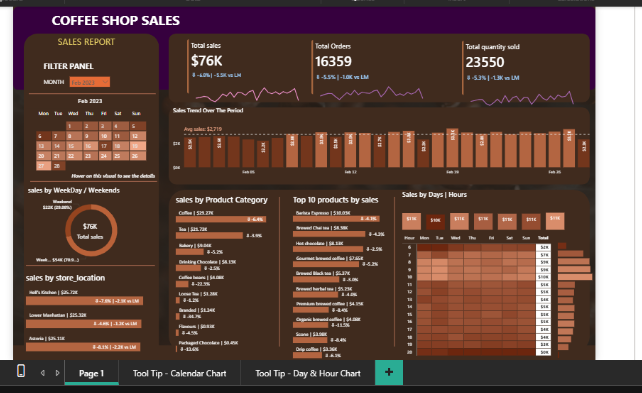

The page's visual inventory and layout, read from the dashboard file:
{"tool":"powerbi","page":{"name":"Page 1","canvas":[1400,850],"ordinal":0},"visuals":[{"type":"shape","box":[0,0,1400,200.3],"z":0},{"type":"group","id":"g1","title":"Group 1","box":[400.5,60.6,299.5,165.4],"z":0,"group":"g4"},{"type":"group","id":"g2","title":"Group 1","box":[700,62.5,299.5,165.4],"z":0,"group":"g5"},{"type":"group","id":"g3","title":"Group 1","box":[1061.9,64.3,299.5,165.4],"z":0,"group":"g6"},{"type":"shape","box":[25.7,64.3,325.2,786.4],"z":1000},{"type":"lineChart","fields":{"Y":["Transactions.Total sales"],"Category":["Date Table.Date Hierarchy.Date"]},"box":[424.4,158,275.6,82.7],"z":1000,"group":"g4"},{"type":"lineChart","fields":{"Category":["Date Table.Date Hierarchy.Date"],"Y":["Transactions.Total Orders"]},"box":[723.9,159.9,275.6,82.7],"z":1000,"group":"g5"},{"type":"lineChart","fields":{"Category":["Date Table.Date Hierarchy.Date"],"Y":["Transactions.Total quantity sold"]},"box":[1085.8,161.7,275.6,82.7],"z":1000,"group":"g6"},{"type":"shape","box":[373,64.3,1012.3,165.4],"z":2000},{"type":"textbox","box":[68.3,0,356.7,61.4],"z":3000},{"type":"slicer","fields":{"Values":["Date Table.Month year"]},"box":[129.7,162.1,109.2,42.7],"z":4000},{"type":"group","id":"g4","title":"Group 2","box":[400.5,60.6,299.5,180.1],"z":5000},{"type":"cardVisual","fields":{"Data":["Transactions.Total sales"]},"box":[400.5,60.6,299.5,165.4],"z":5000,"group":"g1"},{"type":"cardVisual","fields":{"Data":["Transactions.Total Orders"]},"box":[700,62.5,299.5,165.4],"z":5000,"group":"g2"},{"type":"cardVisual","fields":{"Data":["Transactions.Total quantity sold"]},"box":[1061.9,64.3,299.5,165.4],"z":5000,"group":"g3"},{"type":"group","id":"g5","title":"Group 2","box":[700,62.5,299.5,180.1],"z":6000},{"type":"group","id":"g6","title":"Group 2","box":[1061.9,64.3,299.5,180.1],"z":7000},{"type":"pivotTable","fields":{"Rows":["Date Table.Weel number"],"Columns":["Date Table.Day Name"],"Values":["Min(Date Table.Day Number)"]},"box":[25.7,240.7,305,189.2],"z":8000},{"type":"card","fields":{"Values":["Min(Date Table.Month year)"]},"box":[79,192.9,213.1,71.7],"z":9000},{"type":"card","fields":{"Values":["Transactions.Foot Note"]},"box":[95.5,391.3,290.3,38.6],"z":10000},{"type":"shape","box":[40.4,411.5,305,18.4],"z":11000},{"type":"shape","box":[36.7,192.9,305,33.1],"z":12000},{"type":"donutChart","title":" sales by WeekDay / Weekends","fields":{"Category":["Date Table.WeekDay/Weekends"],"Y":["Transactions.Total sales"]},"box":[31.2,429.9,314.2,194.8],"z":13000},{"type":"card","fields":{"Values":["Transactions.Total sales"]},"box":[145.1,510.8,79,57],"z":14000},{"type":"shape","box":[31.2,608.1,310.5,29.4],"z":15000},{"type":"clusteredBarChart","title":"sales by store_location","fields":{"Category":["Transactions.store_location"],"Y":["Transactions.Placeholder","Transactions.Total sales"]},"box":[25.7,637.5,317.8,198.4],"z":16000},{"type":"shape","box":[373,242.5,1012.3,185.6],"z":17000},{"type":"shape","box":[373,440.9,1012.3,391.3],"z":18000},{"type":"columnChart","title":"Sales Trend Over The Period","fields":{"Category":["Transactions.transaction_date"],"Y":["Transactions.Total sales"]},"box":[378.5,240.7,1012.3,172.7],"z":19000},{"type":"clusteredBarChart","title":"sales by Product Category","fields":{"Y":["Transactions.Placeholder","Transactions.Total sales"],"Category":["Transactions.product_category"]},"box":[385.8,450.1,249.9,385.8],"z":20000},{"type":"shape","box":[626.5,457.5,27.6,360.1],"z":21000},{"type":"clusteredBarChart","title":"Top 10 products by sales","fields":{"Y":["Transactions.Placeholder","Transactions.Total sales"],"Category":["Transactions.product_type"]},"box":[666.9,450.1,249.9,400.5],"z":22000},{"type":"shape","box":[902.1,457.5,27.6,360.1],"z":23000},{"type":"pivotTable","fields":{"Rows":["Transactions.Hour"],"Columns":["Date Table.Day Name"],"Values":["Transactions.Total sales"]},"box":[929.7,542,369.3,308.7],"z":24000},{"type":"barChart","fields":{"Category":["Transactions.Hour"],"Y":["Transactions.Total sales"]},"box":[1304,554.7,95.6,295.3],"z":25000},{"type":"columnChart","title":"Sales by Days | Hours","fields":{"Y":["Transactions.Total sales"],"Category":["Date Table.Day Name"]},"box":[930.2,440.4,401.1,102.4],"z":26000},{"type":"textbox","box":[68.3,167.3,61.4,35.8],"z":26001},{"type":"textbox","box":[102.4,64.9,162.1,42.7],"z":26002},{"type":"textbox","box":[68.3,124.6,140,42.7],"z":26003}]}

Visuals, with their boxes on the page's 1400x850 design canvas (x1, y1, x2, y2). These are canvas units, not pixel positions in the 642x393 screenshot, which may show the page scaled, cropped or inside an application window:
shape: bbox=[0, 0, 1400, 200]
"Group 1" group: bbox=[400, 61, 700, 226]
"Group 1" group: bbox=[700, 62, 1000, 228]
"Group 1" group: bbox=[1062, 64, 1361, 230]
shape: bbox=[26, 64, 351, 851]
lineChart - Transactions.Total sales x Date Table.Date Hierarchy.Date: bbox=[424, 158, 700, 241]
lineChart - Date Table.Date Hierarchy.Date x Transactions.Total Orders: bbox=[724, 160, 1000, 243]
lineChart - Date Table.Date Hierarchy.Date x Transactions.Total quantity sold: bbox=[1086, 162, 1361, 244]
shape: bbox=[373, 64, 1385, 230]
textbox: bbox=[68, 0, 425, 61]
slicer - Date Table.Month year: bbox=[130, 162, 239, 205]
"Group 2" group: bbox=[400, 61, 700, 241]
cardVisual - Transactions.Total sales: bbox=[400, 61, 700, 226]
cardVisual - Transactions.Total Orders: bbox=[700, 62, 1000, 228]
cardVisual - Transactions.Total quantity sold: bbox=[1062, 64, 1361, 230]
"Group 2" group: bbox=[700, 62, 1000, 243]
"Group 2" group: bbox=[1062, 64, 1361, 244]
pivotTable - Date Table.Weel number x Date Table.Day Name: bbox=[26, 241, 331, 430]
card - Min(Date Table.Month year): bbox=[79, 193, 292, 265]
card - Transactions.Foot Note: bbox=[96, 391, 386, 430]
shape: bbox=[40, 412, 345, 430]
shape: bbox=[37, 193, 342, 226]
" sales by WeekDay / Weekends" donutChart: bbox=[31, 430, 345, 625]
card - Transactions.Total sales: bbox=[145, 511, 224, 568]
shape: bbox=[31, 608, 342, 638]
"sales by store_location" clusteredBarChart: bbox=[26, 638, 344, 836]
shape: bbox=[373, 242, 1385, 428]
shape: bbox=[373, 441, 1385, 832]
"Sales Trend Over The Period" columnChart: bbox=[378, 241, 1391, 413]
"sales by Product Category" clusteredBarChart: bbox=[386, 450, 636, 836]
shape: bbox=[626, 458, 654, 818]
"Top 10 products by sales" clusteredBarChart: bbox=[667, 450, 917, 851]
shape: bbox=[902, 458, 930, 818]
pivotTable - Transactions.Hour x Date Table.Day Name: bbox=[930, 542, 1299, 851]
barChart - Transactions.Hour x Transactions.Total sales: bbox=[1304, 555, 1400, 850]
"Sales by Days | Hours" columnChart: bbox=[930, 440, 1331, 543]
textbox: bbox=[68, 167, 130, 203]
textbox: bbox=[102, 65, 264, 108]
textbox: bbox=[68, 125, 208, 167]
